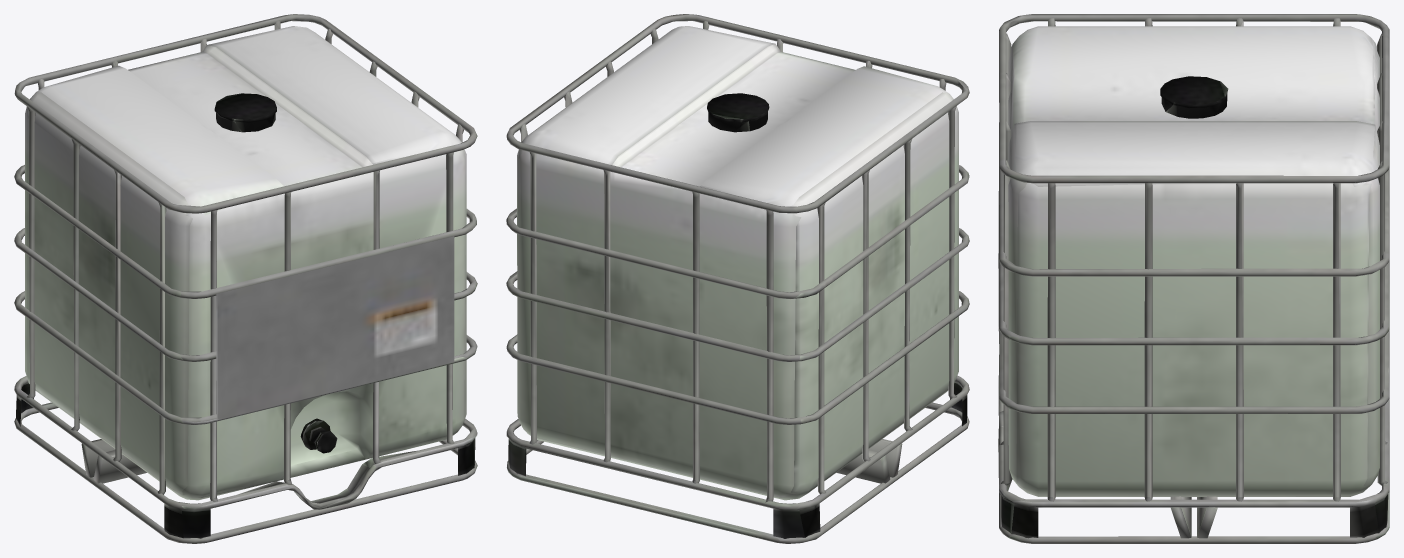
Rendered from tank.glb.
3 views of the same model, side by side, from view 1: azimuth 30°, elevation 25°; view 2: azimuth 150°, elevation 25°; view 3: azimuth 270°, elevation 25° (orthographic). The views are drawn at different scales.
Visible parts, largest first — view 1: Water_tank1; view 2: Water_tank1; view 3: Water_tank1.
Part boxes in pixels (x1,y1,x2,y2): Water_tank1: (14,14,477,543); Water_tank1: (506,14,969,543); Water_tank1: (998,14,1389,543).
Size of the model in its own units: 1.05 by 1.1 by 1.05.
Materials: 1 (1 with a texture image).
